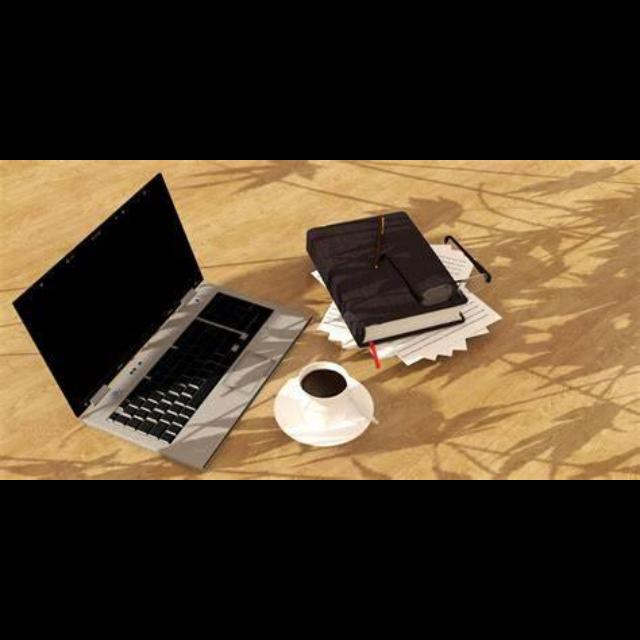papel: (306, 210, 502, 368)
